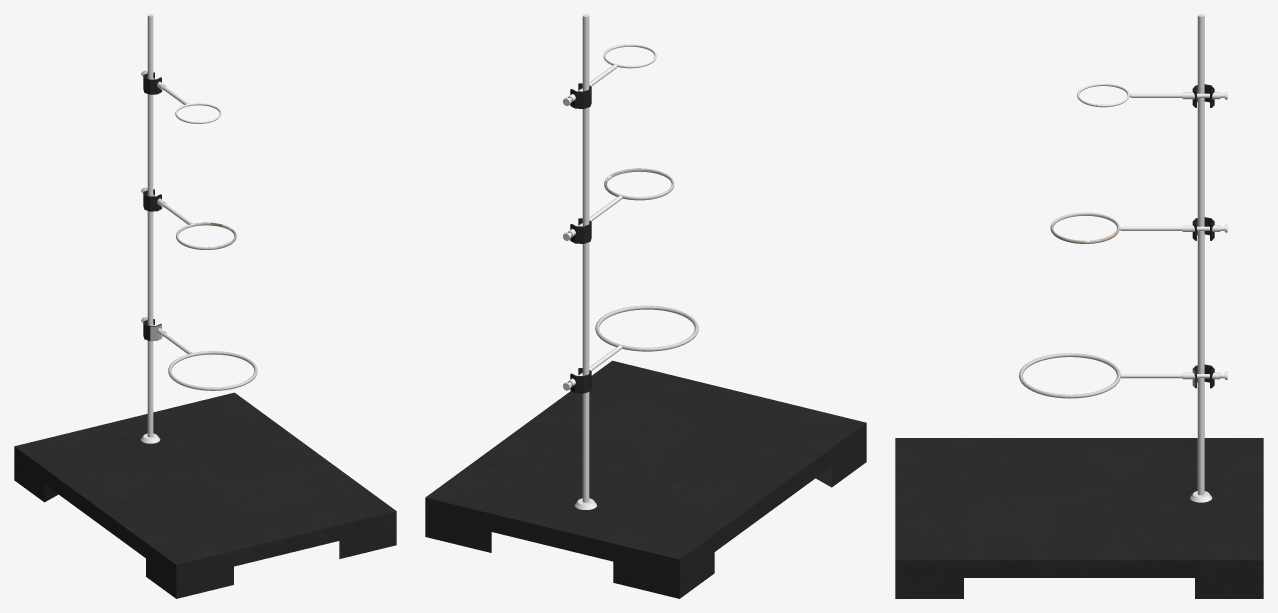
Rendered from Boiling_Liquid_Stand.fbx.
The picture shows the model from 3 angles, left to right: view 1: azimuth 30°, elevation 25°; view 2: azimuth 150°, elevation 25°; view 3: azimuth 270°, elevation 25°; orthographic projection. The views are drawn at different scales.
Parts seen in each view (by area): view 1: pCube89, pCylinder25, pTorus1; view 2: pCube89, pCylinder25, pTorus1 (×2); view 3: pCube89, pCylinder25, pCylinder27 (×3), pTorus1 (×2).
Boxes of the visible parts, x1=… form: pCube89: x1=14, y1=392, x2=396, y2=598; pCylinder25: x1=140, y1=14, x2=160, y2=443; pTorus1: x1=168, y1=351, x2=257, y2=390; pCube89: x1=425, y1=360, x2=866, y2=598; pCylinder25: x1=574, y1=14, x2=596, y2=509; pTorus1 (×2): x1=595, y1=168, x2=698, y2=351; pCube89: x1=895, y1=438, x2=1263, y2=598; pCylinder25: x1=1190, y1=14, x2=1211, y2=502; pCylinder27 (×3): x1=1119, y1=92, x2=1227, y2=379; pTorus1 (×2): x1=1019, y1=212, x2=1120, y2=398.
Size of the model in its own units: 34.34 by 68.31 by 43.74.
